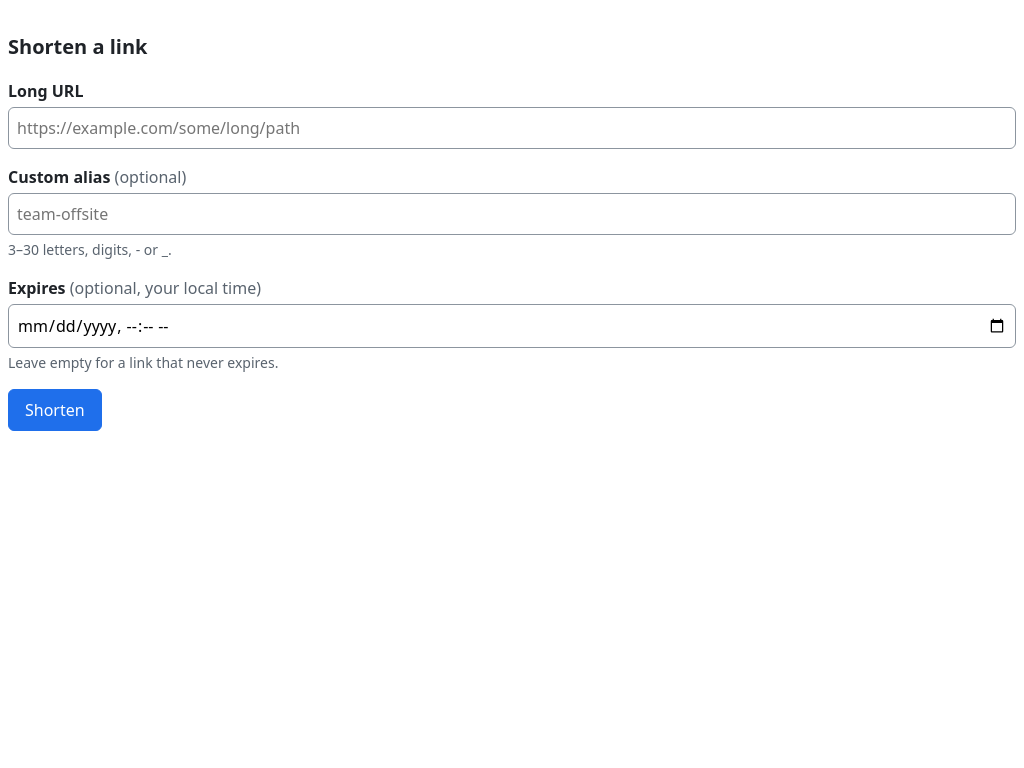
Test: CreateLinkForm › sends the alias and the expiry with the local time zone
The image size is (1024, 768).
Type "https://example.com/" into the field labelled "Long URL" at [512, 128], box [8,107,1016,149]
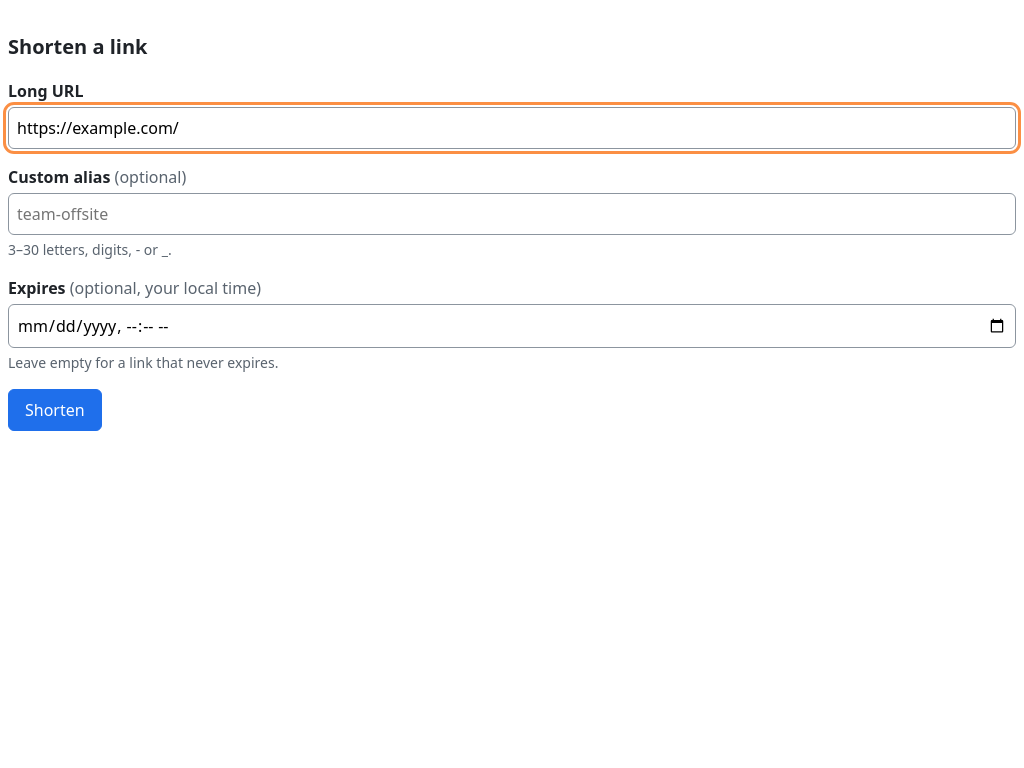
Type "  promo " into the field labelled "Custom alias (optional)" at [512, 214], box [8,193,1016,235]
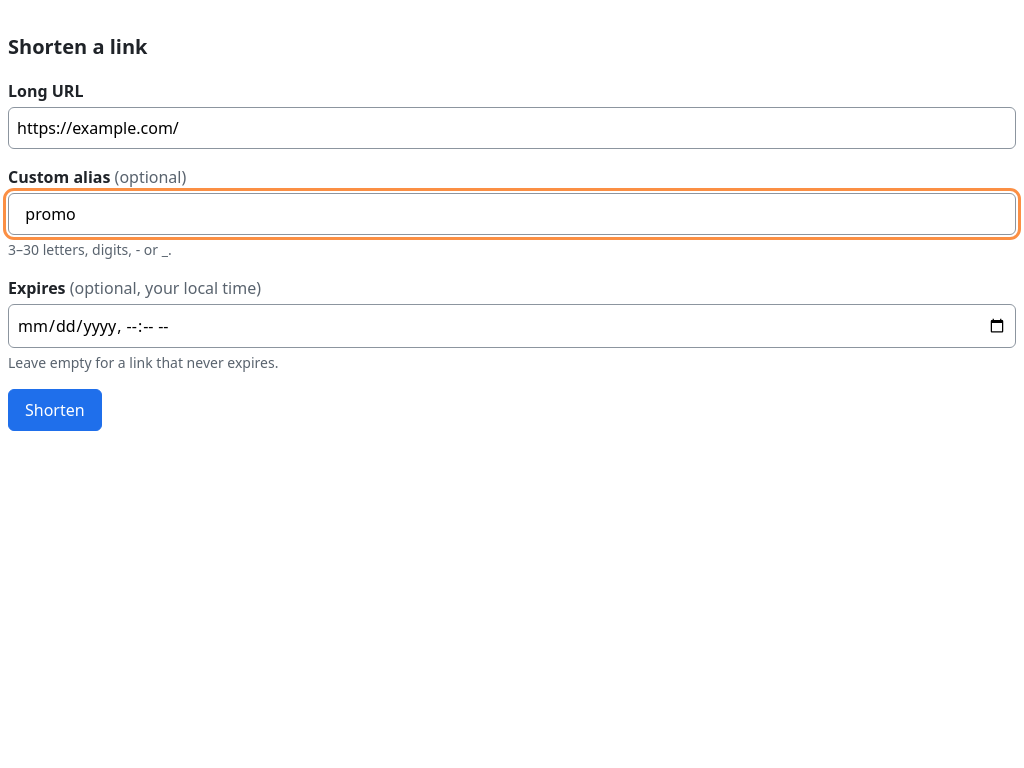
Type "2026-12-31T23:59" into the field labelled "Expires (optional, your local time)" at [512, 326], box [8,304,1016,348]
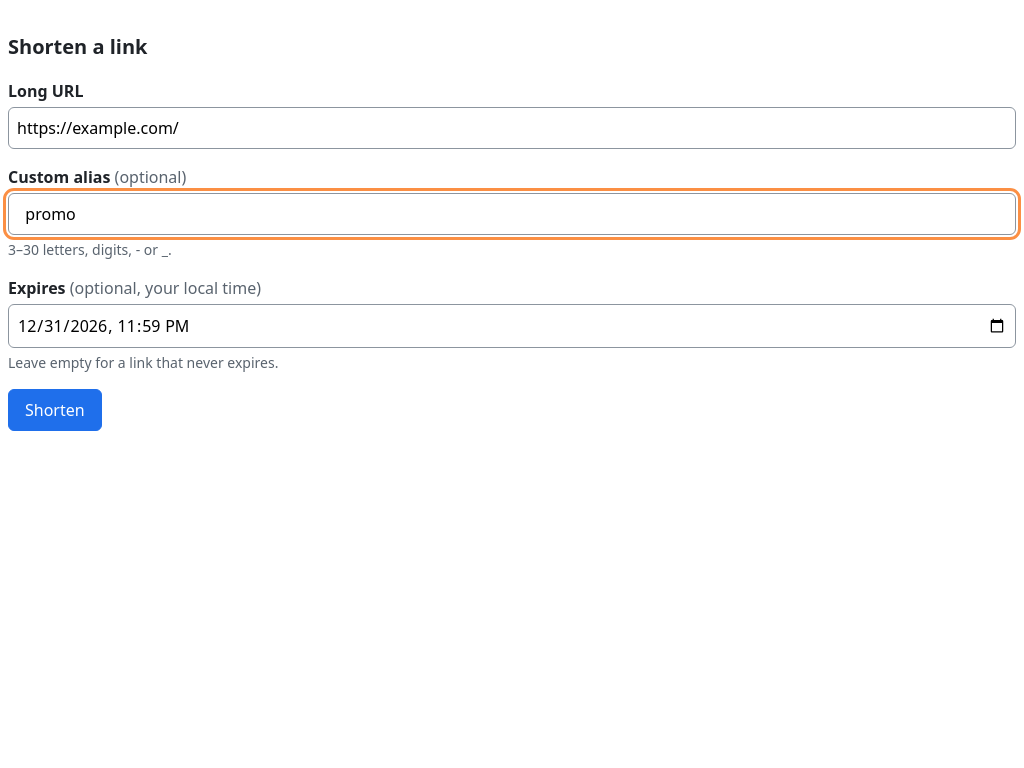
Click the button "Shorten" at [55, 410], box [8,389,102,431]
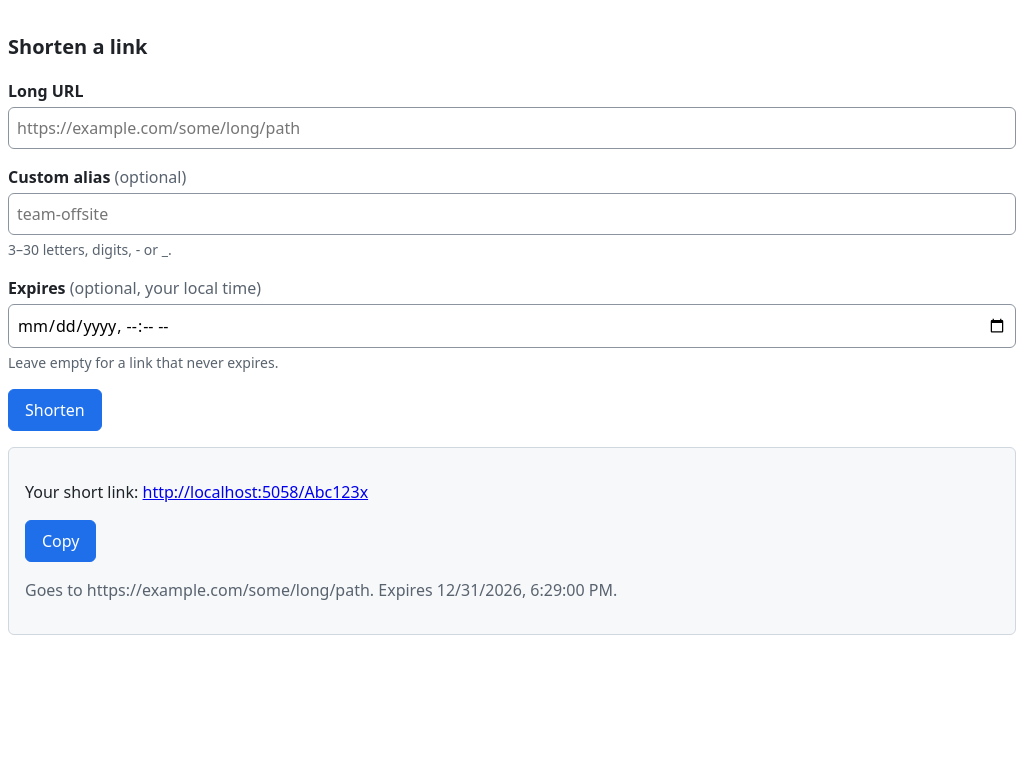
Check: the text "Your short link: http://localhost:5058/Abc123x" is shown, box [25,481,368,503]
Check: the text "Expires " is shown, box [378,579,617,601]
